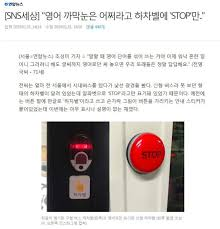bell: (123, 130, 167, 177)
